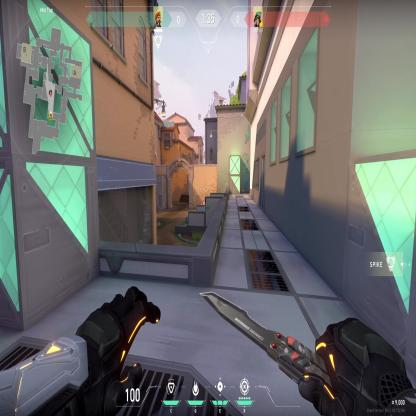enemy: (200, 197, 204, 205)
